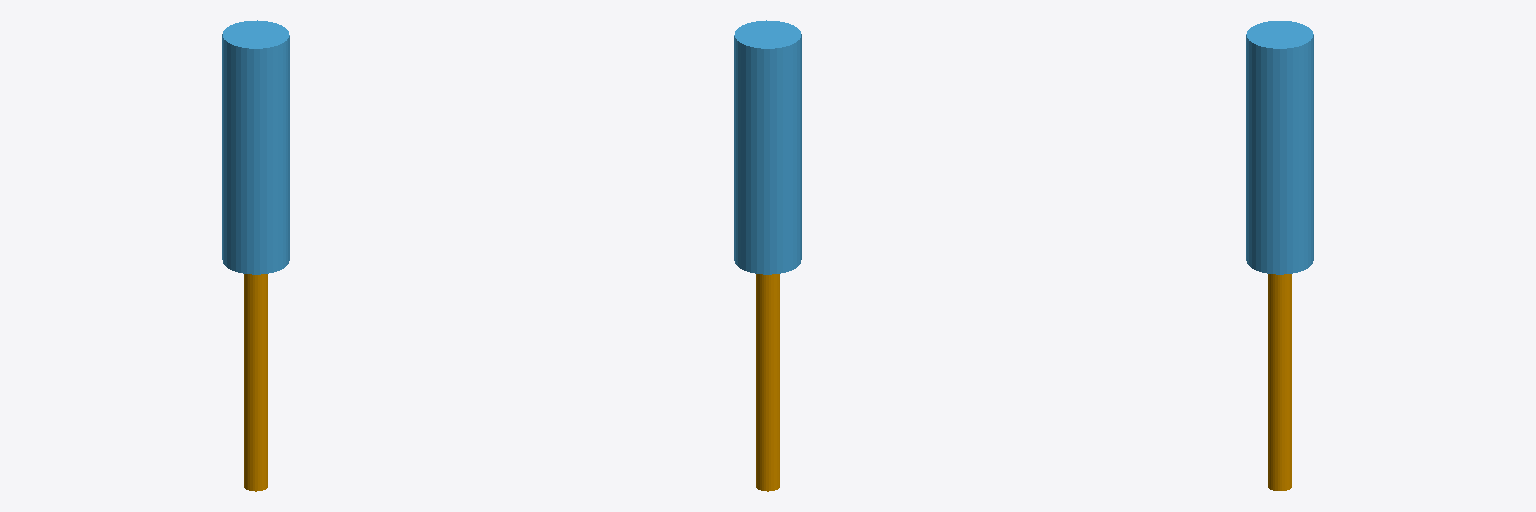
URDF robot description (screwdriver_on_the_table):
<?xml version="1.0" ?>
<!-- this is the one without any virtual joints and links -->
<robot name="screwdriver_on_the_table">
<link name="screwdriver_stick">
    <inertial>
      <mass value="0.05"/>
      <!-- <friction value="1.0"/> -->
      <inertia ixx="0.000041979" ixy="0.0" ixz="0.0" iyy="0.000041979" iyz="0.0" izz="0.000000625"/>
    </inertial>
    <visual>
        <origin rpy="0 0 0" xyz="0 0 0.05"/>
        <geometry>
            <cylinder radius="0.005" length="0.1"/>
        </geometry>
        <!-- <material name="White">
	 	    <color rgba="0.9 0.9 0.9 0.5"/>
        </material> -->
    </visual>
    <collision>
        <origin rpy="0 0 0" xyz="0 0 0.05"/>
        <geometry>
            <cylinder radius="0.005" length="0.1"/>
        </geometry>
    </collision>
</link>

<gazebo reference="screwdriver_body">
    <mu1>0.338139</mu1>
    <mu2>0.412434</mu2>
    <!-- Isaac Sim maps mu1/mu2 to PhysX static/dynamic friction during URDF→USD import -->
</gazebo>

<joint name="screwdriver_stick_body_joint" type="fixed">
    <parent link="screwdriver_stick"/>
    <child link="screwdriver_body"/>
    <origin rpy="0 0 0" xyz="0 0 0.1"/> 
    <axis xyz="0 0 1"/>
</joint>

<link name="screwdriver_body">
    <inertial>
      <mass value="0.138574"/>
      <inertia ixx="0.000121783" ixy="0.0" ixz="0.0" iyy="0.000121783" iyz="0.0" izz="0.000012609"/>
    </inertial>
    <visual>
        <origin rpy="0 0 0" xyz="0 0 0.05"/>
        <geometry>
            <cylinder radius="0.013490" length="0.1"/>
        </geometry>
        <!-- <material name="Red1">
	 	    <color rgba="0.9 0. 0. 0.5"/>
        </material> -->
    </visual>
    <collision>
        <origin rpy="0 0 0" xyz="0 0 0.05"/>
        <geometry>
            <cylinder radius="0.013490" length="0.1"/>
        </geometry>
    </collision>
</link>

<!-- <joint name="screwdriver_body_cap_joint" type="revolute">
    <parent link="screwdriver_body"/>
    <child link="screwdriver_cap"/>
    <origin rpy="0 0 0" xyz="0 0 0.1"/> 
    <axis xyz="0 0 1"/>
</joint>

<link name="screwdriver_cap">
    <inertial>
      <mass value="0.005"/>
      <inertia ixx="0.00001" ixy="0.0" ixz="0.0" iyy="0.000005" iyz="0.0" izz="0.000005"/>
    </inertial>
    <visual>
        <origin rpy="0 0 0" xyz="0 0 0.0006"/>
        <geometry>
            <cylinder radius="0.02" length="0.001"/>
        </geometry>
        <material name="Yellow">
	 	    <color rgba="0.9 0.9 0. 1.0"/>
        </material>
    </visual>
    <collision>
        <origin rpy="0 0 0" xyz="0 0 0.0005"/>
        <geometry>
            <cylinder radius="0.02" length="0.001"/>
        </geometry>
    </collision>
</link> -->

</robot>

--- Facts derived from the render (not from the file) ---
3 views of the same robot in one strip: view 1: azimuth 30°, elevation 25°; view 2: azimuth 150°, elevation 25°; view 3: azimuth 270°, elevation 25° (orthographic).
Robot: screwdriver_on_the_table — 2 links, 1 joints (1 fixed); root link screwdriver_stick; default pose: every joint at zero.
Links seen in each view (by area): view 1: screwdriver_body, screwdriver_stick; view 2: screwdriver_body, screwdriver_stick; view 3: screwdriver_body, screwdriver_stick.
Link boxes in pixels (x1=…): screwdriver_body: x1=222, y1=20, x2=289, y2=274; screwdriver_stick: x1=244, y1=274, x2=267, y2=491; screwdriver_body: x1=734, y1=20, x2=801, y2=274; screwdriver_stick: x1=756, y1=274, x2=779, y2=491; screwdriver_body: x1=1246, y1=21, x2=1313, y2=274; screwdriver_stick: x1=1268, y1=274, x2=1291, y2=490.
Bounding box of the posed robot: 0.027 × 0.027 × 0.2 m (x, y, z).
Geometry: primitives only (box / cylinder / sphere), no mesh files.
